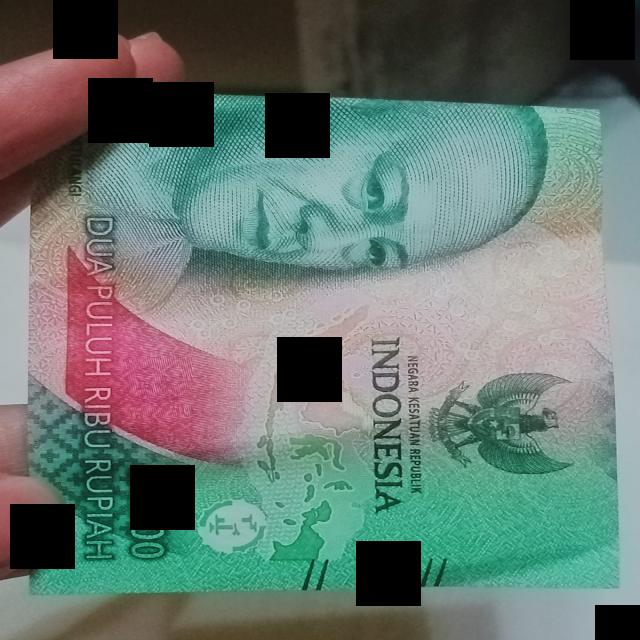dua puluh ribu rupiah: (28, 92, 617, 594)
